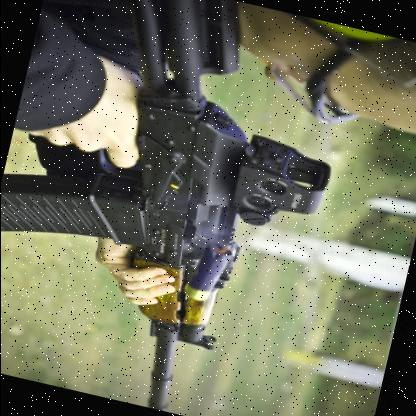rifle: (0, 0, 368, 416)
